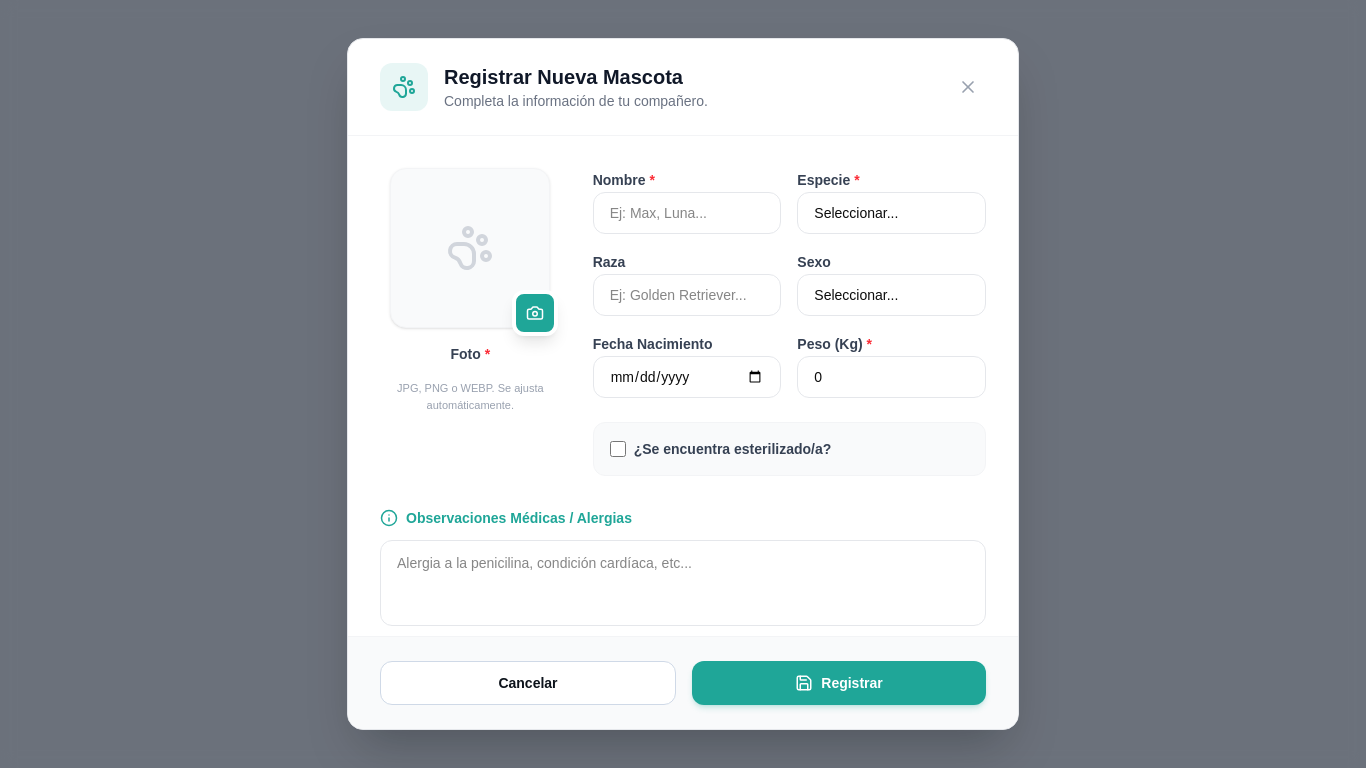
Test: PetFormModal: registro de mascota › sin foto no registra y lo dice junto al campo
Type "Max" into the field with placeholder "Ej: Max, Luna...".
click(687, 213); type("Max")  # box [593,192,781,234]
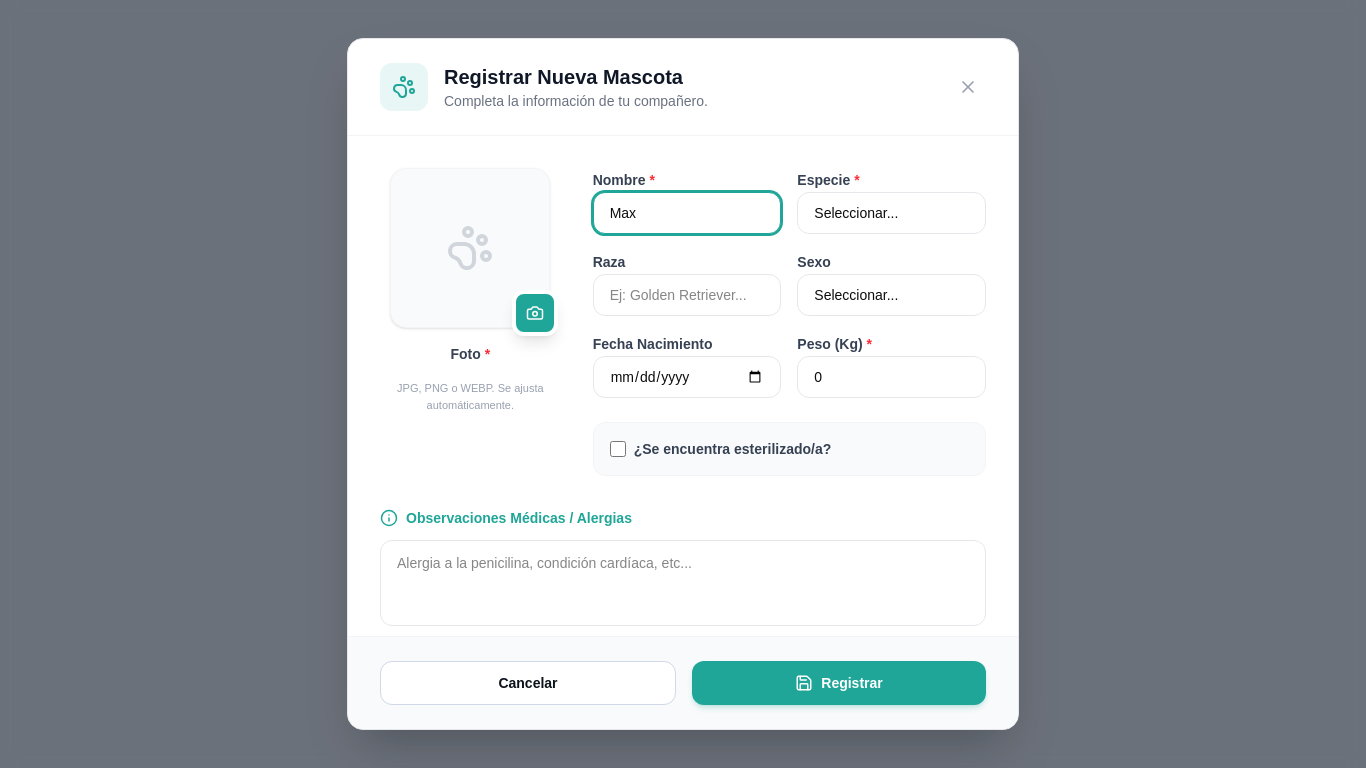
Select "Perro" in the dropdown below "Especie" at point(892, 213), box [797,192,986,234]
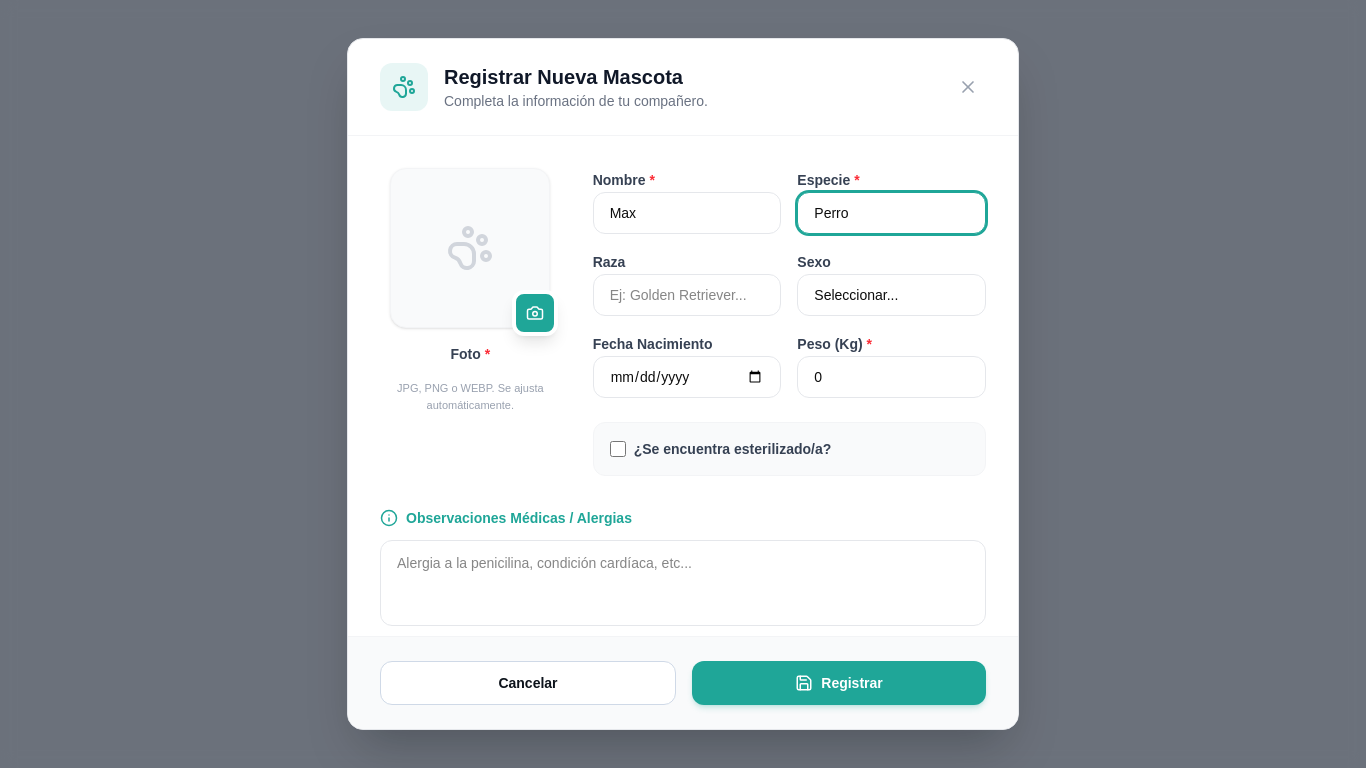
Replace the text in the number field with "12.5" at point(892, 377), box [797,356,986,398]
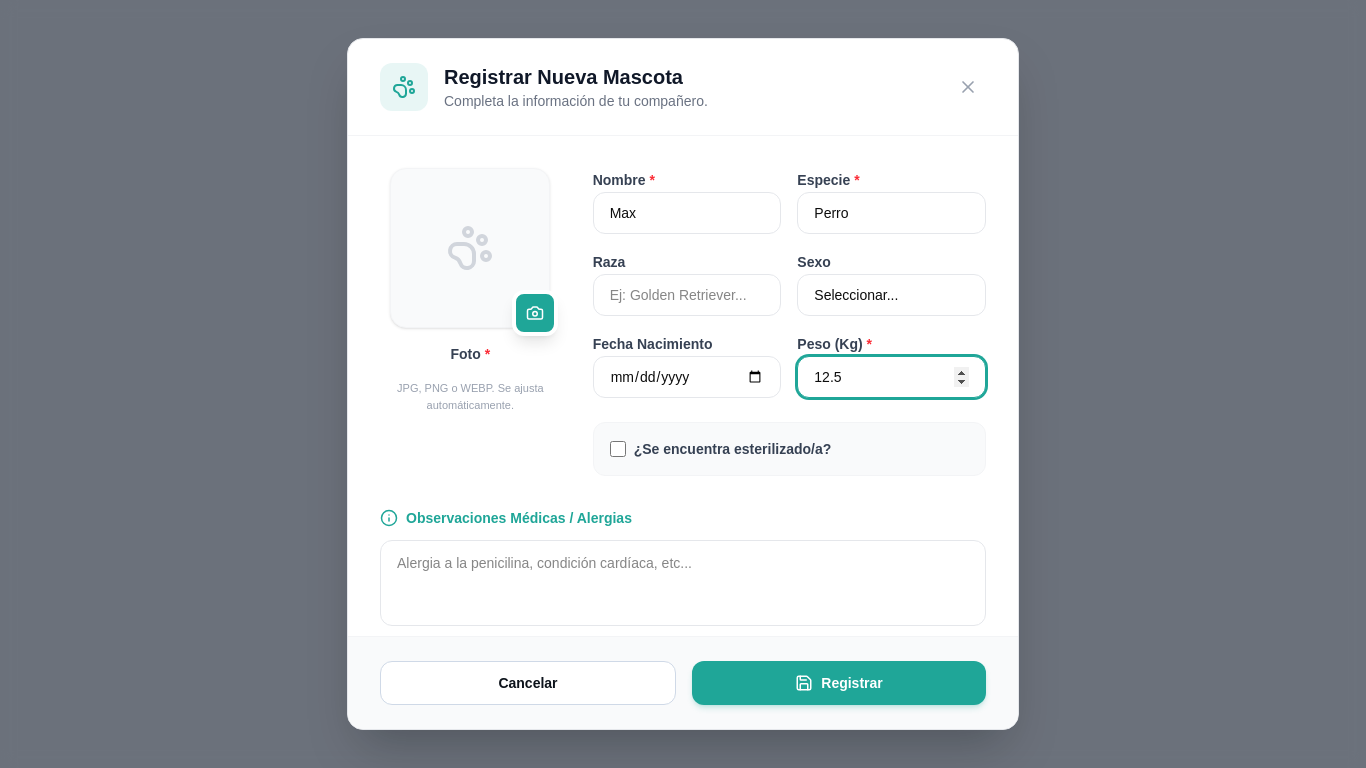
Click the button "Registrar".
click(839, 683)  # box [692,661,986,705]
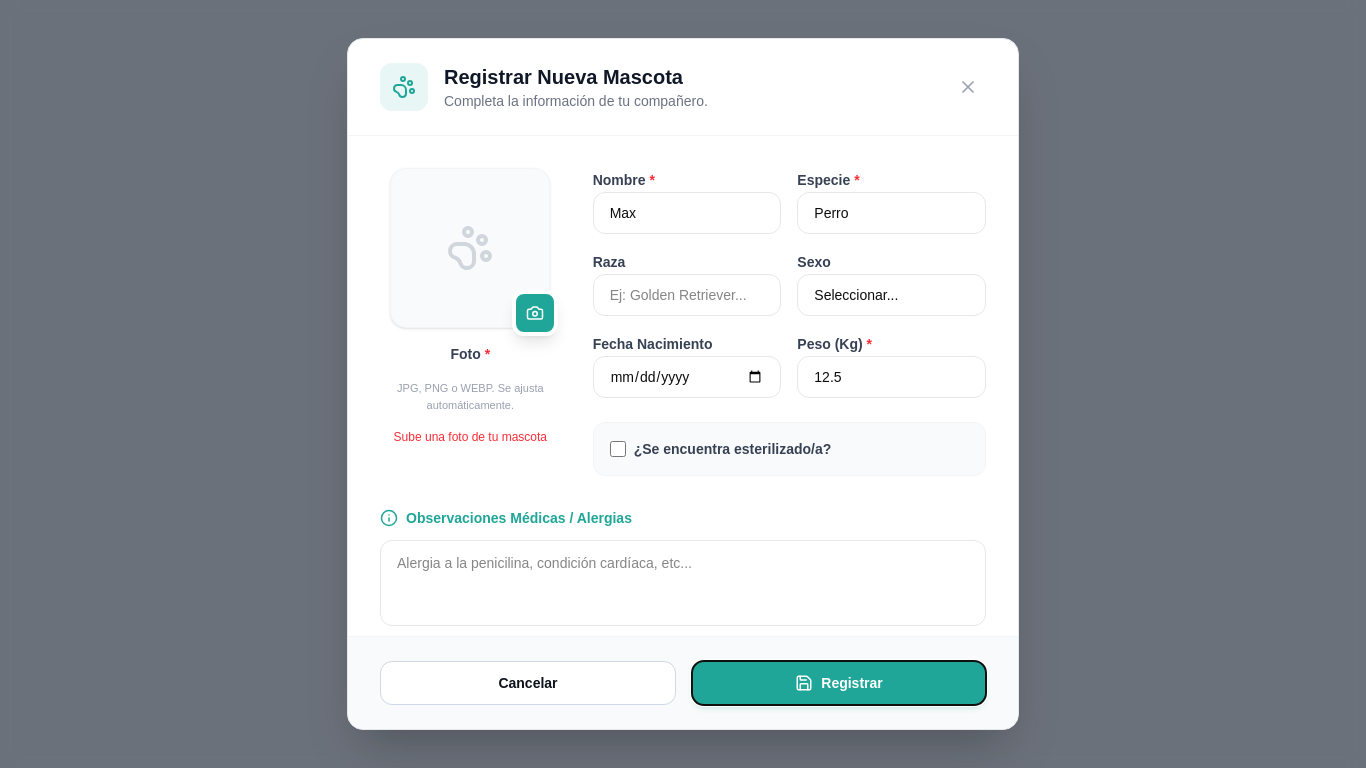
Result: the message reads "Sube una foto de tu mascota" at [394,430,547,444]
